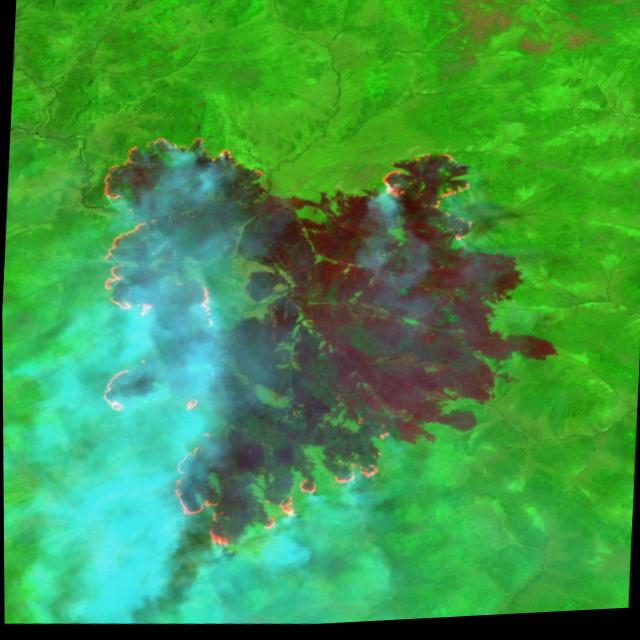fire: (63, 113, 486, 575)
